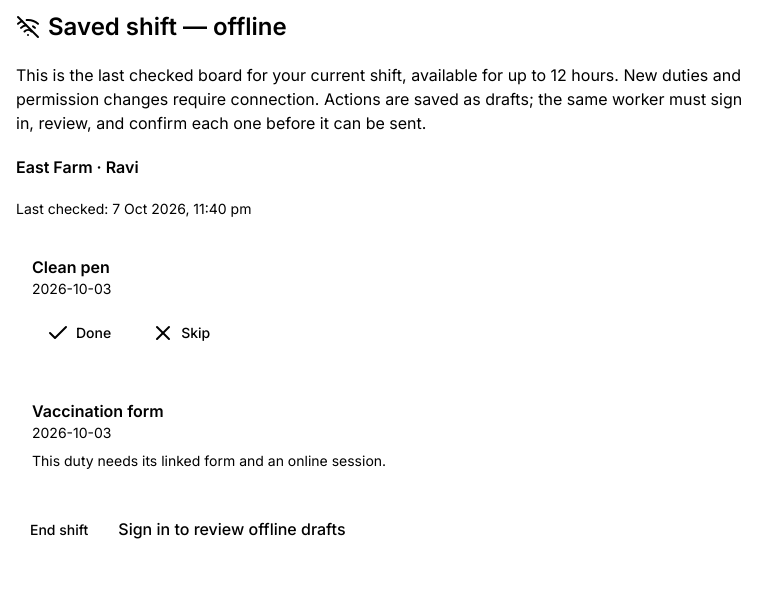
Test case: shows storage failure without acknowledging a saved action
This screenshot has width=758, height=600.
Click the button with test id "offline-complete-41" at (79, 333), box [32, 311, 125, 355]
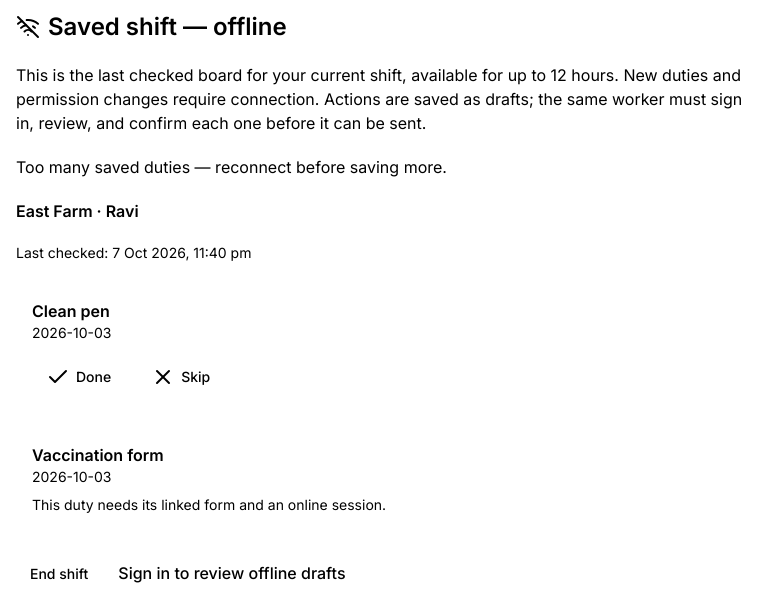
Expected: the message "Too many saved duties — reconnect before saving more." is shown, [16, 157, 447, 177]
